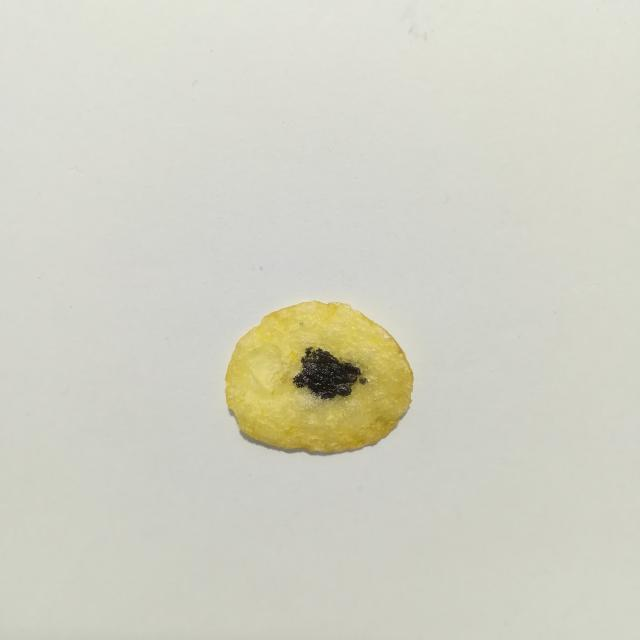chip: (225, 301, 413, 451)
damaged: (293, 348, 361, 399), (359, 377, 368, 385)
